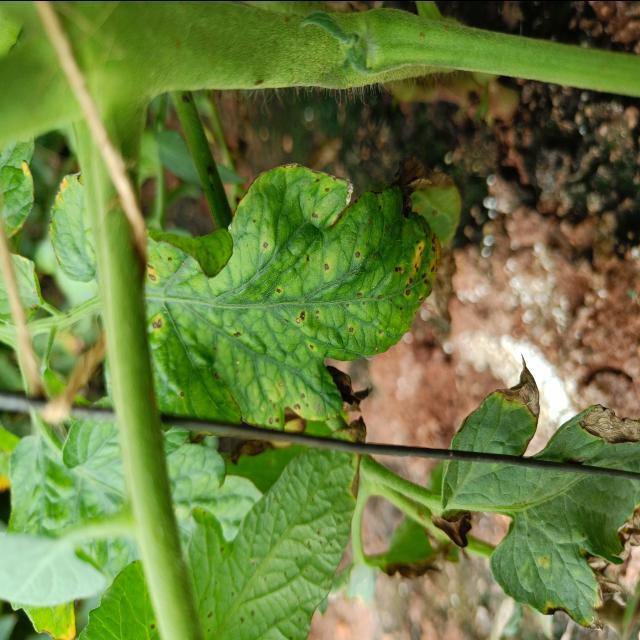Tomato mosaic virus leaf: (145, 151, 448, 425)
